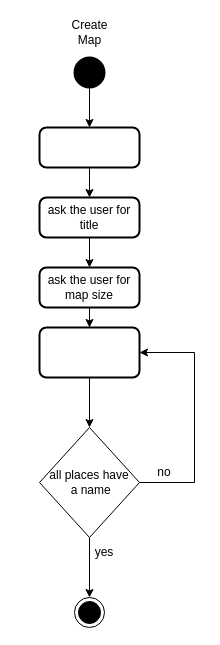
Image size: 220x645. Some labels were removed from this diagram. The box of each missing label's shape, as (x1, y1, x2, y2) in pixels:
asks the user for names of the places: (38, 326, 140, 378)
Click on create map: (38, 126, 140, 168)
